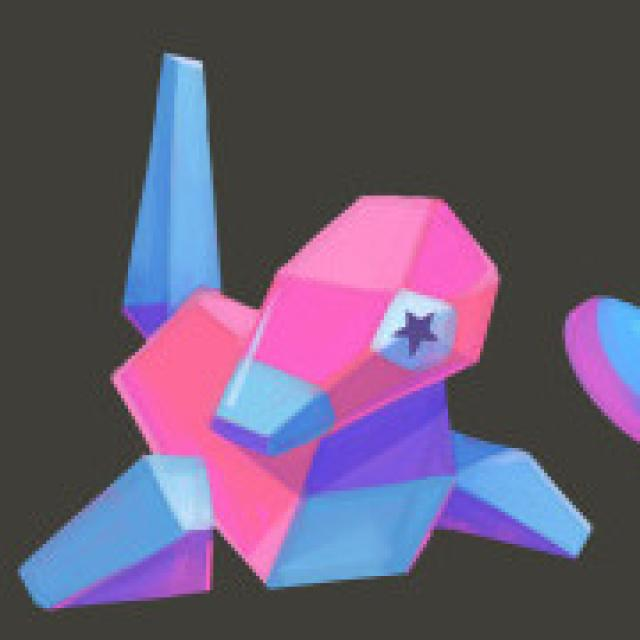Porygon: (111, 188, 511, 598)
